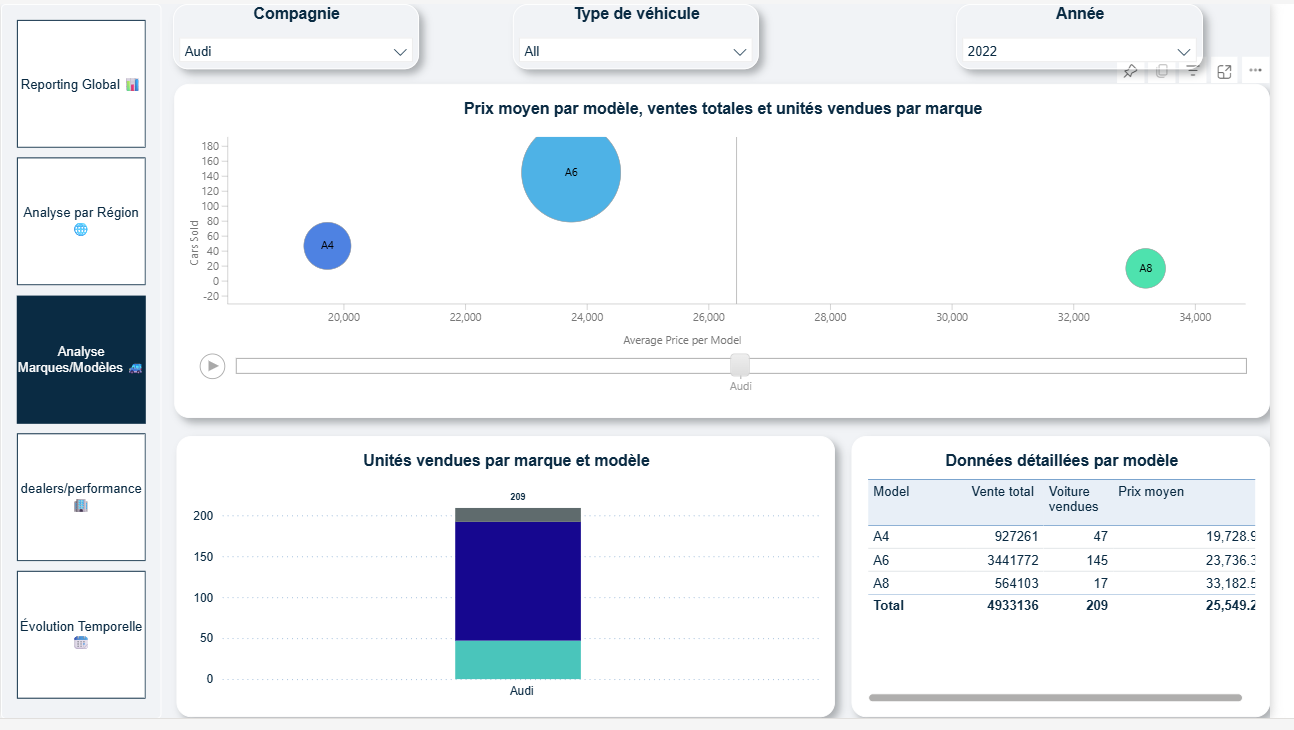

This screenshot's page, from the dashboard's own definition file:
{"tool":"powerbi","page":{"name":"Analyse Marques/Modèles 🚙 ","canvas":[1280,720],"ordinal":2},"visuals":[{"type":"pageNavigator","box":[0,0,161.9,720.6],"z":0},{"type":"columnChart","title":"Unités vendues par marque et modèle","fields":{"Category":["Ventes.Company"],"Series":["Ventes.Model"],"Y":["mesmesure.Cars Sold"]},"box":[176.5,435.6,663.9,283.4],"z":1000},{"type":"impactBubbleChart9F474F4C9D2243D7A6BB693D25F75740","title":"Prix moyen par modèle, ventes totales et unités vendues par marque","fields":{"xAxis":["mesmesure.Average Price per Model"],"yAxis":["mesmesure.Cars Sold"],"size":["mesmesure.Total Sales"],"name":["Ventes.Model"],"groupBy":["Ventes.Company"]},"box":[174.3,80.7,1105.2,337.2],"z":2000},{"type":"slicer","title":"Compagnie","fields":{"Values":["Ventes.Company"]},"box":[173.9,0,247.6,66.1],"z":3000},{"type":"slicer","title":" Type de véhicule","fields":{"Values":["Ventes.BodyStyle"]},"box":[515.9,0,247.6,66.1],"z":4000},{"type":"slicer","title":"Année","fields":{"Values":["DateTable.Year"]},"box":[963.2,0,248.5,66.2],"z":5000},{"type":"tableEx","title":"Données détaillées par modèle","fields":{"Values":["Ventes.Model","mesmesure.Total Sales","mesmesure.Cars Sold","mesmesure.Average Price per Model"]},"box":[858.2,435.6,422.6,283.4],"z":6000}]}

Visuals, with their boxes on the page's 1280x720 design canvas (x1, y1, x2, y2). These are canvas units, not pixel positions in the 1294x730 screenshot, which may show the page scaled, cropped or inside an application window:
pageNavigator: 0/0/162/721
"Unités vendues par marque et modèle" columnChart: 176/436/840/719
"Prix moyen par modèle, ventes totales et unités vendues par marque" impactBubbleChart9F474F4C9D2243D7A6BB693D25F75740: 174/81/1280/418
"Compagnie" slicer: 174/0/422/66
" Type de véhicule" slicer: 516/0/764/66
"Année" slicer: 963/0/1212/66
"Données détaillées par modèle" tableEx: 858/436/1281/719
